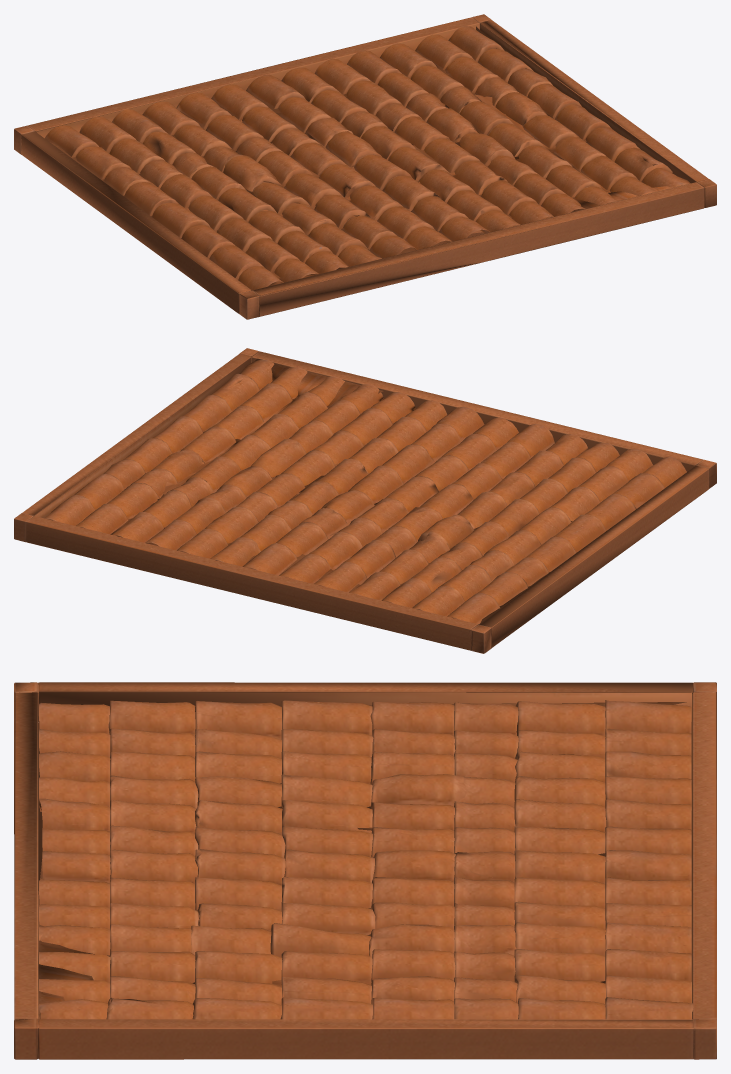
The model's file is ck_roof_panel-original.glb.
3 views of the same model, one above another, from view 1: azimuth 30°, elevation 25°; view 2: azimuth 150°, elevation 25°; view 3: azimuth 270°, elevation 25° (orthographic). The views are drawn at different scales.
Bounding box in the file's own units: 0.9502 × 0.0493 × 0.8154.
1 material, 1 textured.
